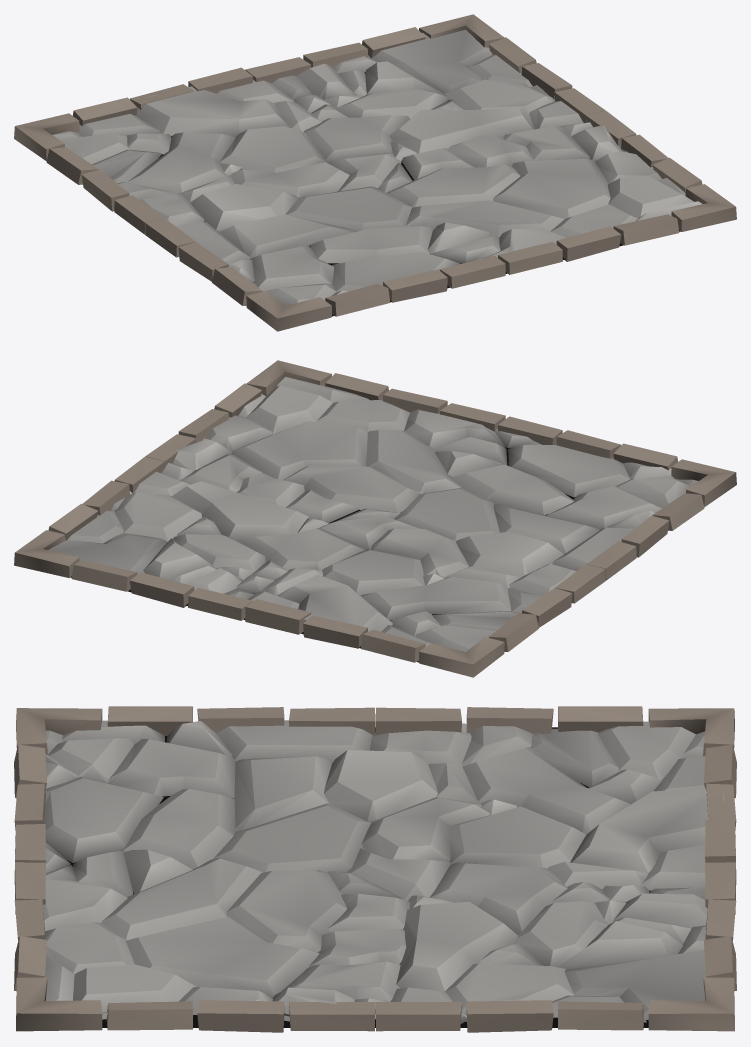
File: floor_stones_frame_LOW.FBX
The picture shows the model from 3 angles, top to bottom: view 1: azimuth 30°, elevation 25°; view 2: azimuth 150°, elevation 25°; view 3: azimuth 270°, elevation 25°; orthographic projection. The views are drawn at different scales.
Parts seen in each view (by area): view 1: floor_stones_frame_LOW; view 2: floor_stones_frame_LOW; view 3: floor_stones_frame_LOW.
Part boxes in pixels (x1,y1,x2,y2): floor_stones_frame_LOW: [14, 14, 736, 331]; floor_stones_frame_LOW: [14, 360, 736, 677]; floor_stones_frame_LOW: [14, 706, 736, 1032].
Size of the model in its own units: 4.09 by 0.1444 by 4.06.
